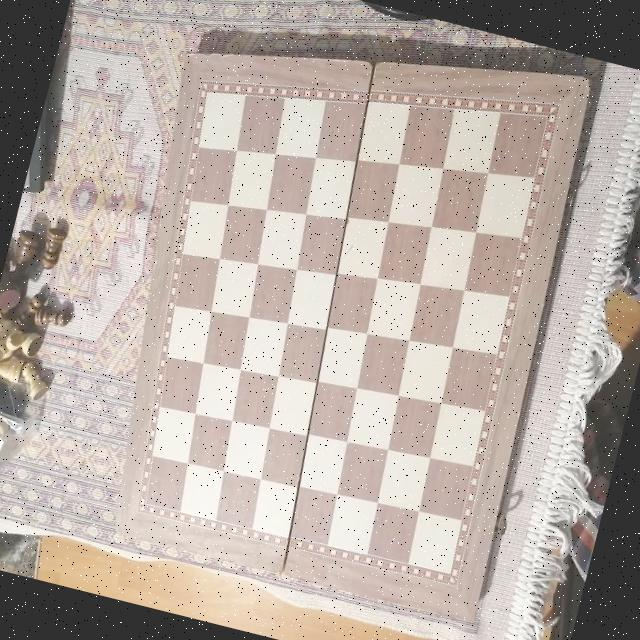corners: (568, 63, 602, 95), (174, 37, 201, 73), (103, 522, 129, 550), (457, 610, 486, 634)
